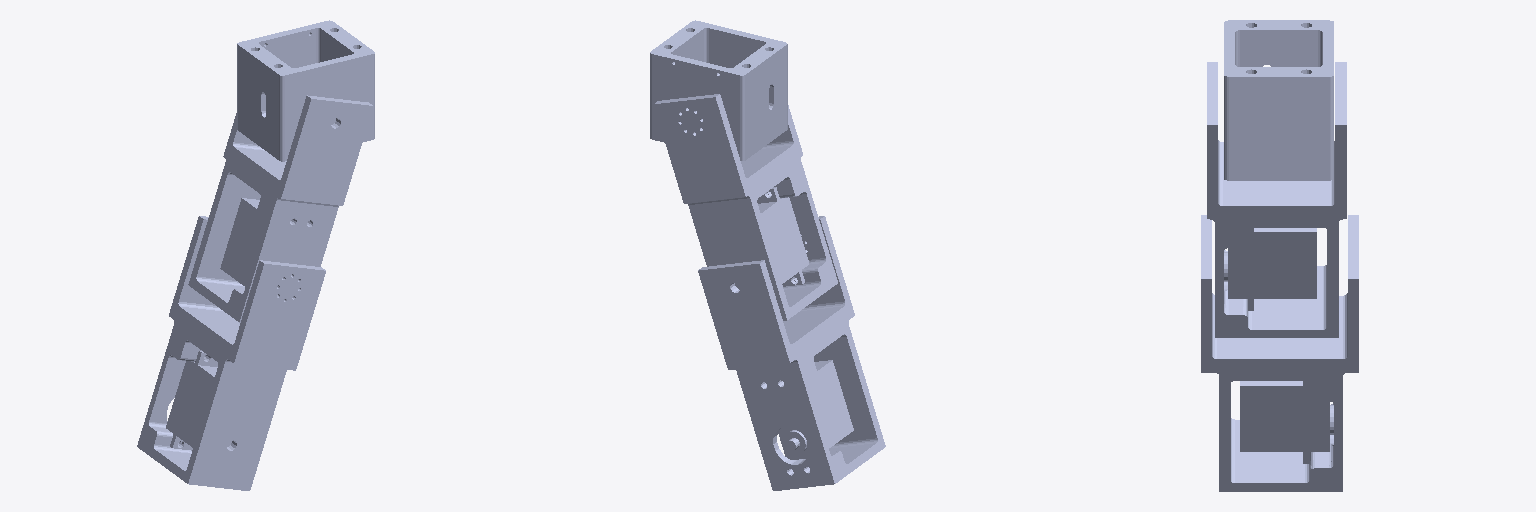
robot.urdf — r3cpg_description:
<robot
  name="r3cpg_description">
  <link
    name="base_link">
    <inertial>
      <origin
        xyz="3.16587034365767E-17 -1.82145964977565E-17 -0.0227442289486721"
        rpy="0 0 0" />
      <mass
        value="0.527360725339934" />
      <inertia
        ixx="0.00167039431330097"
        ixy="-3.83248574453312E-06"
        ixz="-5.0821976835258E-20"
        iyy="0.00721954116235271"
        iyz="5.42101086242752E-20"
        izz="0.00861560212772434" />
    </inertial>
    <visual>
      <origin
        xyz="0 0 0"
        rpy="0 0 0" />
      <geometry>
        <mesh
          filename="package://r3cpg_description/meshes/base_link.STL" />
      </geometry>
      <material
        name="">
        <color
          rgba="0.792156862745098 0.819607843137255 0.933333333333333 1" />
      </material>
    </visual>
    <collision>
      <origin
        xyz="0 0 0"
        rpy="0 0 0" />
      <geometry>
        <mesh
          filename="package://r3cpg_description/meshes/base_link.STL" />
      </geometry>
    </collision>
  </link>
  <link
    name="leg_base_fr">
    <inertial>
      <origin
        xyz="0.00026428 0.023305 0.006386"
        rpy="0 0 0" />
      <mass
        value="0.060024" />
      <inertia
        ixx="2.912E-05"
        ixy="-7.4641E-08"
        ixz="1.1326E-08"
        iyy="4.0372E-05"
        iyz="3.6174E-07"
        izz="4.3797E-05" />
    </inertial>
    <visual>
      <origin
        xyz="0 0 0"
        rpy="0 0 0" />
      <geometry>
        <mesh
          filename="package://r3cpg_description/meshes/leg_base_fr.STL" />
      </geometry>
      <material
        name="">
        <color
          rgba="0.79216 0.81961 0.93333 1" />
      </material>
    </visual>
    <collision>
      <origin
        xyz="0 0 0"
        rpy="0 0 0" />
      <geometry>
        <mesh
          filename="package://r3cpg_description/meshes/leg_base_fr.STL" />
      </geometry>
    </collision>
  </link>
  <joint
    name="leg_base_fr_fixed"
    type="fixed">
    <origin
      xyz="0.121 -0.079 -0.0361"
      rpy="0 0 -1.91847566639509E-16" />
    <parent
      link="base_link" />
    <child
      link="leg_base_fr" />
    <axis
      xyz="0 0 0" />
  </joint>
  <link
    name="leg_shoulder">
    <inertial>
      <origin
        xyz="1.7689E-08 0.024508 -0.063634"
        rpy="0 0 0" />
      <mass
        value="0.12155" />
      <inertia
        ixx="0.0001766"
        ixy="-3.1201E-11"
        ixz="-5.9479E-11"
        iyy="0.00014384"
        iyz="1.3321E-06"
        izz="5.9298E-05" />
    </inertial>
    <visual>
      <origin
        xyz="0 0 0"
        rpy="0 0 0" />
      <geometry>
        <mesh
          filename="package://r3cpg_description/meshes/leg_shoulder.STL" />
      </geometry>
      <material
        name="">
        <color
          rgba="0.79216 0.81961 0.93333 1" />
      </material>
    </visual>
    <collision>
      <origin
        xyz="0 0 0"
        rpy="0 0 0" />
      <geometry>
        <mesh
          filename="package://r3cpg_description/meshes/leg_shoulder.STL" />
      </geometry>
    </collision>
  </link>
  <joint
    name="leg_shoulder_joint"
    type="revolute">
    <origin
      xyz="0 -0.00252 0"
      rpy="0 0.33093 0" />
    <parent
      link="leg_base_fr" />
    <child
      link="leg_shoulder" />
    <axis
      xyz="0 1 0" />
    <limit
      effort="0"
      velocity="0" />
  </joint>
  <link
    name="leg_elbow">
    <inertial>
      <origin
        xyz="-1.7313E-08 0.026803 -0.063159"
        rpy="0 0 0" />
      <mass
        value="0.12414" />
      <inertia
        ixx="0.00018537"
        ixy="-3.1359E-11"
        ixz="6.0464E-11"
        iyy="0.00014551"
        iyz="-2.1303E-06"
        izz="6.7084E-05" />
    </inertial>
    <visual>
      <origin
        xyz="0 0 0"
        rpy="0 0 0" />
      <geometry>
        <mesh
          filename="package://r3cpg_description/meshes/leg_elbow.STL" />
      </geometry>
      <material
        name="">
        <color
          rgba="0.79216 0.81961 0.93333 1" />
      </material>
    </visual>
    <collision>
      <origin
        xyz="0 0 0"
        rpy="0 0 0" />
      <geometry>
        <mesh
          filename="package://r3cpg_description/meshes/leg_elbow.STL" />
      </geometry>
    </collision>
  </link>
  <joint
    name="leg_elbow_joint"
    type="revolute">
    <origin
      xyz="0 0.00142 -0.09284"
      rpy="0 0 0" />
    <parent
      link="leg_shoulder" />
    <child
      link="leg_elbow" />
    <axis
      xyz="0 -1 0" />
    <limit
      effort="0"
      velocity="0" />
  </joint>
  <link
    name="leg_wrist">
    <inertial>
      <origin
        xyz="-4.1233E-10 0.027507 -0.036847"
        rpy="0 0 0" />
      <mass
        value="0.066391" />
      <inertia
        ixx="5.2481E-05"
        ixy="4.1851E-12"
        ixz="1.8037E-11"
        iyy="3.0101E-05"
        iyz="1.7364E-08"
        izz="3.9757E-05" />
    </inertial>
    <visual>
      <origin
        xyz="0 0 0"
        rpy="0 0 0" />
      <geometry>
        <mesh
          filename="package://r3cpg_description/meshes/leg_wrist.STL" />
      </geometry>
      <material
        name="">
        <color
          rgba="0.79216 0.81961 0.93333 1" />
      </material>
    </visual>
    <collision>
      <origin
        xyz="0 0 0"
        rpy="0 0 0" />
      <geometry>
        <mesh
          filename="package://r3cpg_description/meshes/leg_wrist.STL" />
      </geometry>
    </collision>
  </link>
  <joint
    name="leg_wrist_joint"
    type="revolute">
    <origin
      xyz="0 -0.00092 -0.09284"
      rpy="0 -0.99439 0" />
    <parent
      link="leg_elbow" />
    <child
      link="leg_wrist" />
    <axis
      xyz="0 -1 0" />
    <limit
      effort="0"
      velocity="0" />
  </joint>
  <link
    name="leg_base_fl" />
  <joint
    name="leg_base_fl_fixed"
    type="fixed">
    <origin
      xyz="0.121 0.079 -0.0361"
      rpy="0 0 0" />
    <parent
      link="base_link" />
    <child
      link="leg_base_fl" />
    <axis
      xyz="0 0 0" />
  </joint>
  <link
    name="leg_base_rr" />
  <joint
    name="leg_base_rr_fixed"
    type="fixed">
    <origin
      xyz="-0.121 -0.079 -0.0361"
      rpy="0 0 0" />
    <parent
      link="base_link" />
    <child
      link="leg_base_rr" />
    <axis
      xyz="0 0 0" />
  </joint>
  <link
    name="leg_base_rl" />
  <joint
    name="leg_base_rl_fixed"
    type="fixed">
    <origin
      xyz="-0.121 0.079 -0.0361"
      rpy="0 0 0" />
    <parent
      link="base_link" />
    <child
      link="leg_base_rl" />
    <axis
      xyz="0 0 0" />
  </joint>
</robot>

--- What the picture shows (computed from the rendered views, not written in the file) ---
Views: 3 orthographic renders of the robot side by side, from view 1: azimuth 30°, elevation 25°; view 2: azimuth 150°, elevation 25°; view 3: azimuth 270°, elevation 25°.
Robot: r3cpg_description — 8 links, 7 joints (3 revolute, 4 fixed); root link base_link; default pose: all joints at 0.
Visible links, largest first — view 1: leg_elbow, leg_shoulder, leg_base_fr; view 2: leg_elbow, leg_shoulder, leg_base_fr; view 3: leg_elbow, leg_shoulder, leg_base_fr.
Boxes of the visible links, x1=… form: leg_elbow: x1=137, y1=216, x2=325, y2=490; leg_shoulder: x1=188, y1=95, x2=372, y2=322; leg_base_fr: x1=237, y1=20, x2=374, y2=161; leg_elbow: x1=698, y1=216, x2=885, y2=490; leg_shoulder: x1=654, y1=94, x2=837, y2=320; leg_base_fr: x1=650, y1=20, x2=787, y2=160; leg_elbow: x1=1201, y1=215, x2=1358, y2=491; leg_shoulder: x1=1207, y1=62, x2=1346, y2=337; leg_base_fr: x1=1224, y1=20, x2=1333, y2=180.
Size in the robot's own frame: 0.1161 by 0.069 by 0.2359 metres.
Meshes: 5 distinct files referenced, 3 mesh visuals loaded (3 binary STL); not drawn: 2 (reference not matched to a file when rendering).